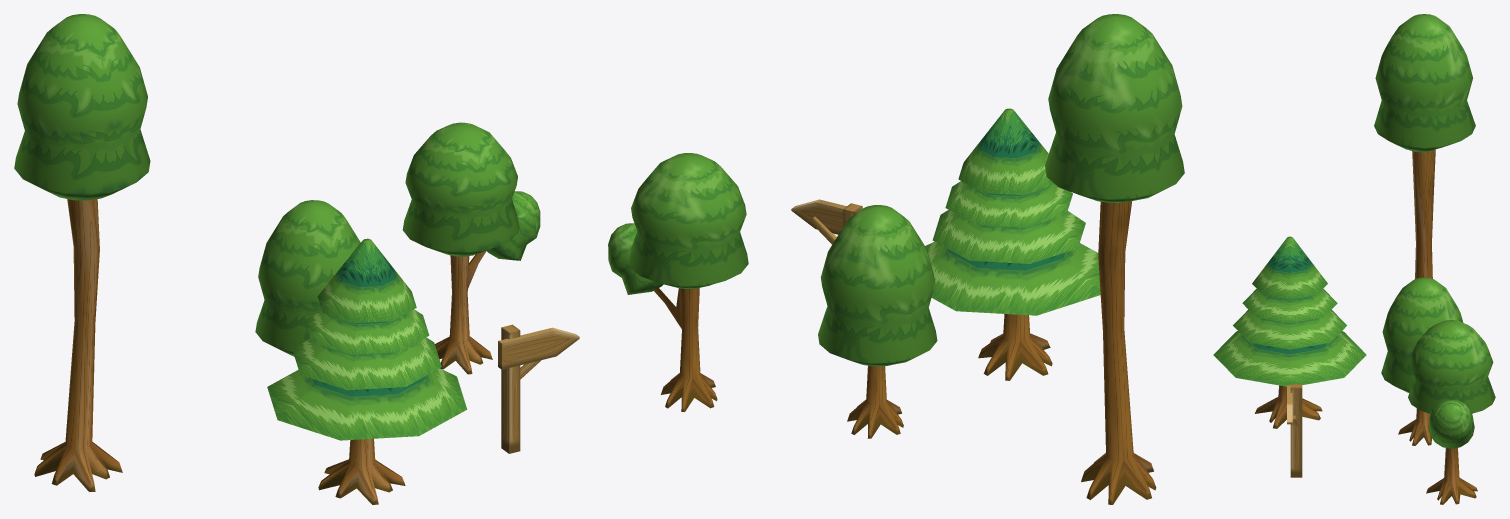
File: PropsSet.FBX
The picture shows the model from 3 angles, left to right: view 1: azimuth 30°, elevation 25°; view 2: azimuth 150°, elevation 25°; view 3: azimuth 270°, elevation 25°; orthographic projection. The views are drawn at different scales.
Visible parts, largest first — view 1: tree05, Object04, tree3, tree1, Box45; view 2: tree05, Object04, tree3, tree1, Box45; view 3: Object04, tree05, tree3, tree1, Box45.
Part boxes in pixels (x1=…): tree05: x1=14, y1=14, x2=150, y2=491; Object04: x1=267, y1=238, x2=467, y2=504; tree3: x1=402, y1=122, x2=540, y2=374; tree1: x1=255, y1=200, x2=360, y2=356; Box45: x1=498, y1=324, x2=579, y2=453; tree05: x1=1045, y1=14, x2=1184, y2=504; Object04: x1=925, y1=108, x2=1100, y2=380; tree3: x1=608, y1=153, x2=748, y2=412; tree1: x1=818, y1=205, x2=937, y2=438; Box45: x1=791, y1=199, x2=862, y2=244; Object04: x1=1213, y1=236, x2=1366, y2=428; tree05: x1=1374, y1=14, x2=1475, y2=278; tree3: x1=1408, y1=320, x2=1495, y2=504; tree1: x1=1381, y1=277, x2=1463, y2=445; Box45: x1=1287, y1=384, x2=1302, y2=477.
Bounding box in the file's own units: 266 × 165 × 218.
